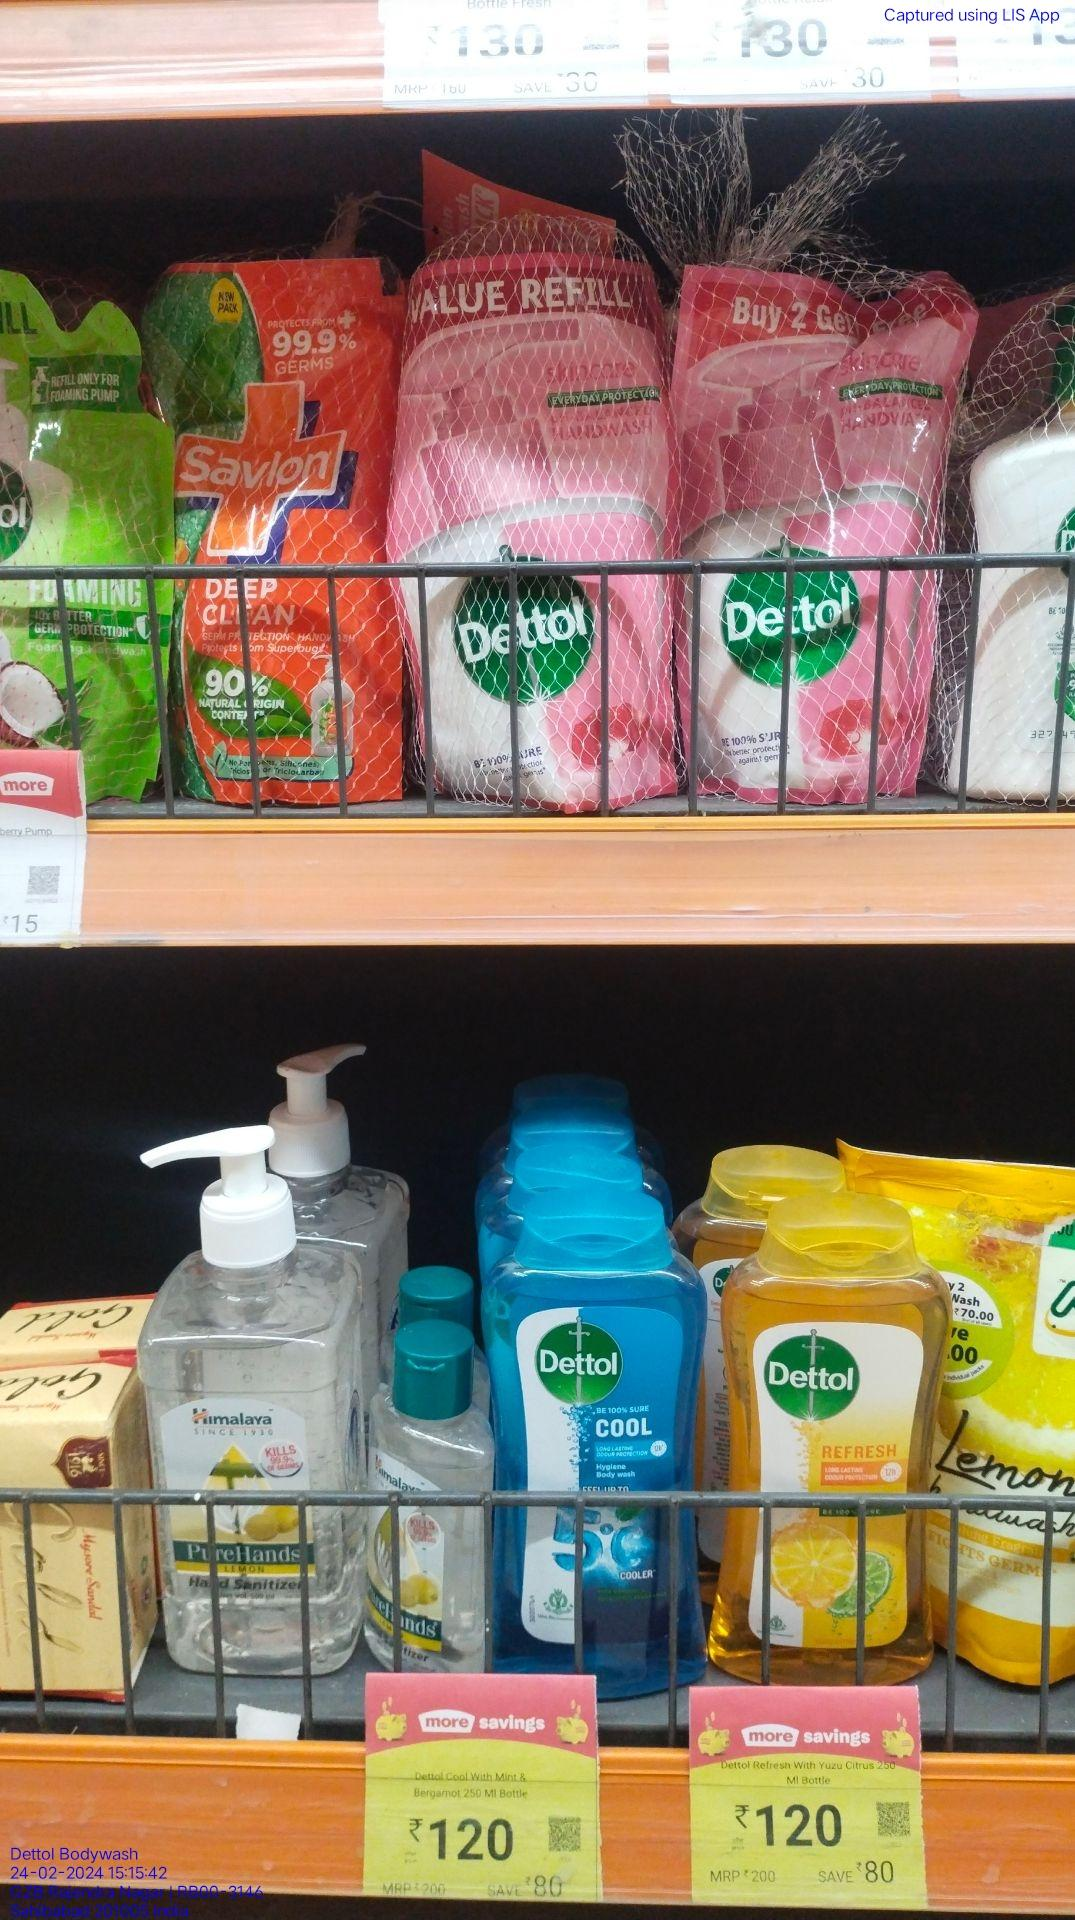Dettol_Bodywash_Cool: (510, 1209, 704, 1700)
Dettol_Bodywash_Refresh: (728, 1188, 934, 1687)
